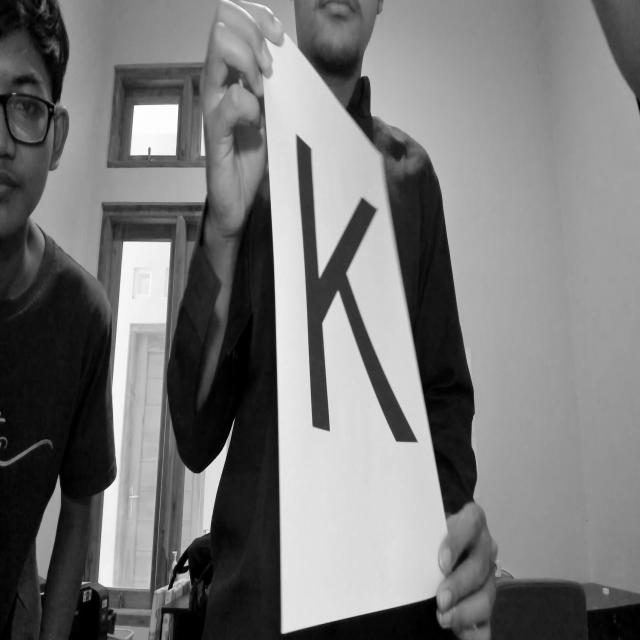k: (275, 110, 428, 452)
